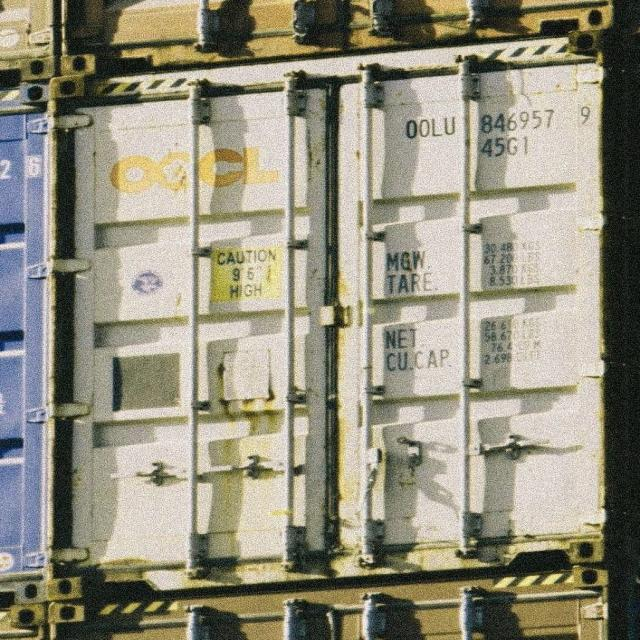ISO: (478, 130, 536, 162)
container_number: (406, 105, 578, 134)
